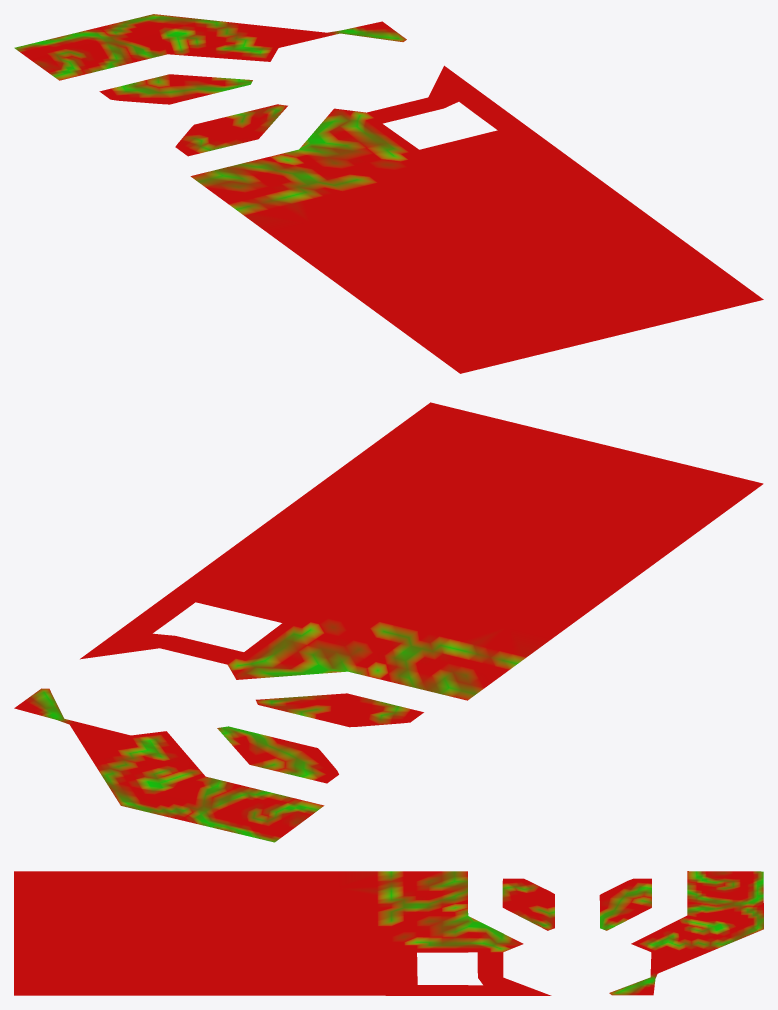
Rendered from pref_sm_4v4_city_hunt01_terrain03_snow_lv3.fbx.
The picture shows the model from 3 angles, top to bottom: view 1: azimuth 30°, elevation 25°; view 2: azimuth 150°, elevation 25°; view 3: azimuth 270°, elevation 25°; orthographic projection. The views are drawn at different scales.
Parts seen in each view (by area): view 1: pref_sm_4v4_city_hunt01_terrain03_snow_lv3; view 2: pref_sm_4v4_city_hunt01_terrain03_snow_lv3; view 3: pref_sm_4v4_city_hunt01_terrain03_snow_lv3.
Boxes of the visible parts, x1,y1,x2,y2 form: pref_sm_4v4_city_hunt01_terrain03_snow_lv3: (14, 14, 763, 373); pref_sm_4v4_city_hunt01_terrain03_snow_lv3: (14, 402, 763, 842); pref_sm_4v4_city_hunt01_terrain03_snow_lv3: (14, 871, 763, 995).
Size of the model in its own units: 41.37 by 0.128 by 105.
